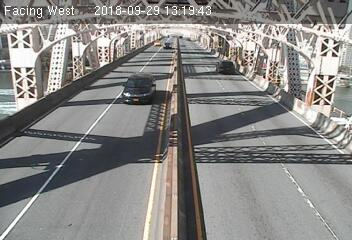car: (118, 68, 161, 106), (213, 60, 240, 75), (163, 41, 172, 50)
